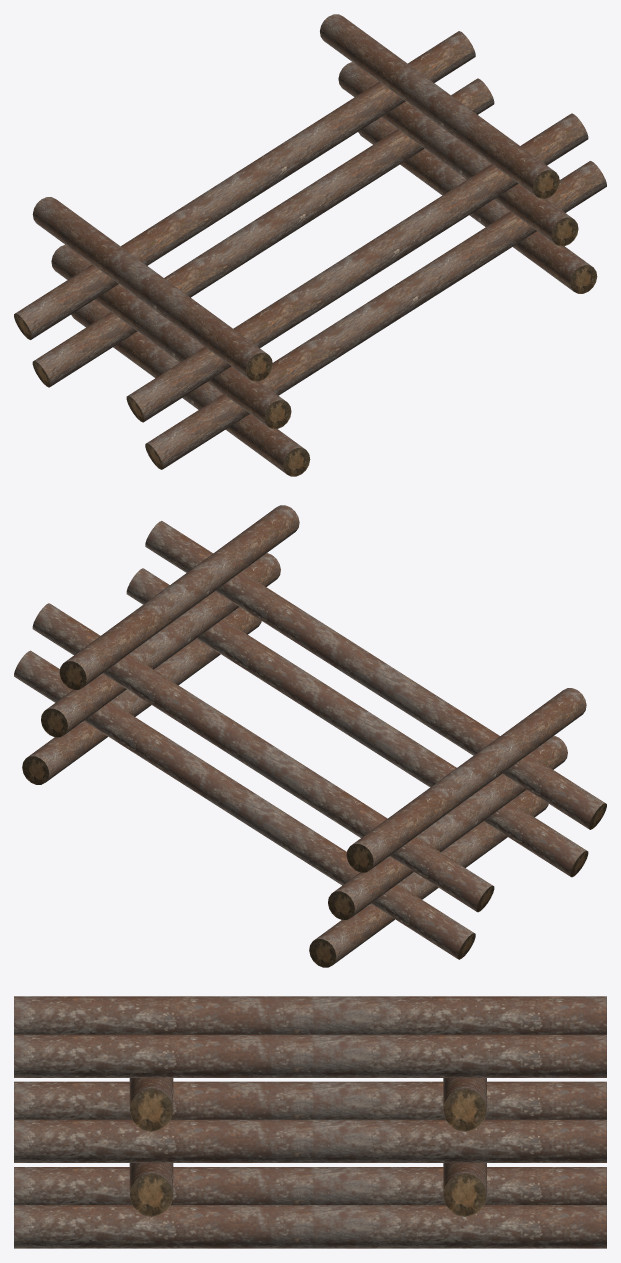
Rendered from well_wood.glb.
The picture shows the model from 3 angles, top to bottom: view 1: azimuth 30°, elevation 25°; view 2: azimuth 150°, elevation 25°; view 3: azimuth 270°, elevation 25°; orthographic projection. The views are drawn at different scales.
Parts seen in each view (by area): view 1: well_wood; view 2: well_wood; view 3: well_wood.
Boxes of the visible parts, <box> form: well_wood: <box>14,14,606,476</box>; well_wood: <box>14,505,606,967</box>; well_wood: <box>14,996,606,1248</box>.
Bounding box in the file's own units: 2.18 × 1.11 × 1.7.
1 material, 1 textured.
